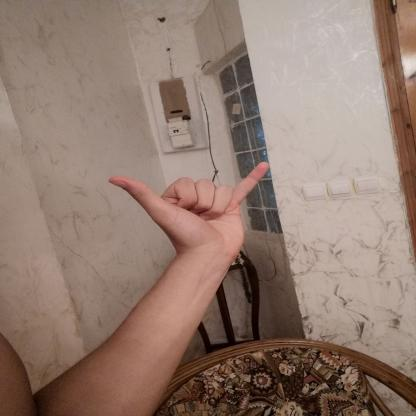YA: (98, 151, 283, 267)
